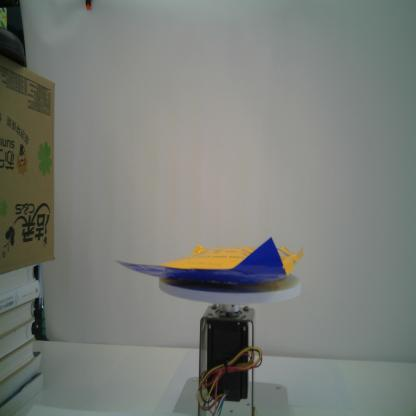Dried Fruit: (113, 236, 305, 286)
